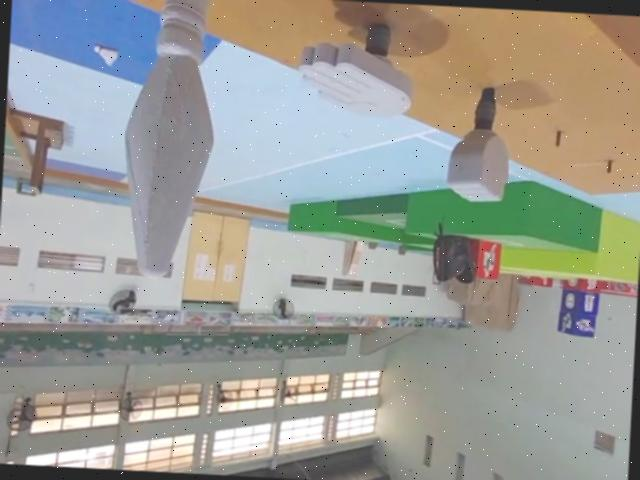Fist: (440, 82, 517, 205)
Hand: (297, 12, 418, 122), (298, 13, 418, 123)
Sph: (111, 0, 220, 293)
